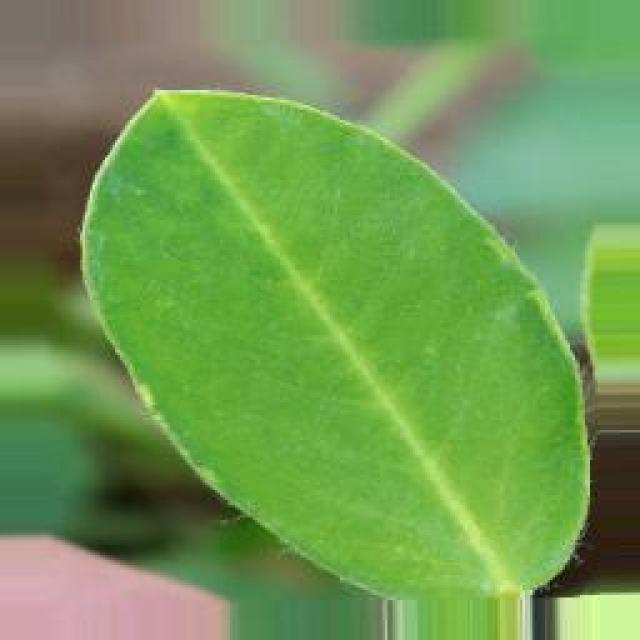Yellow_and_black_sigatoka: (82, 74, 601, 602)
